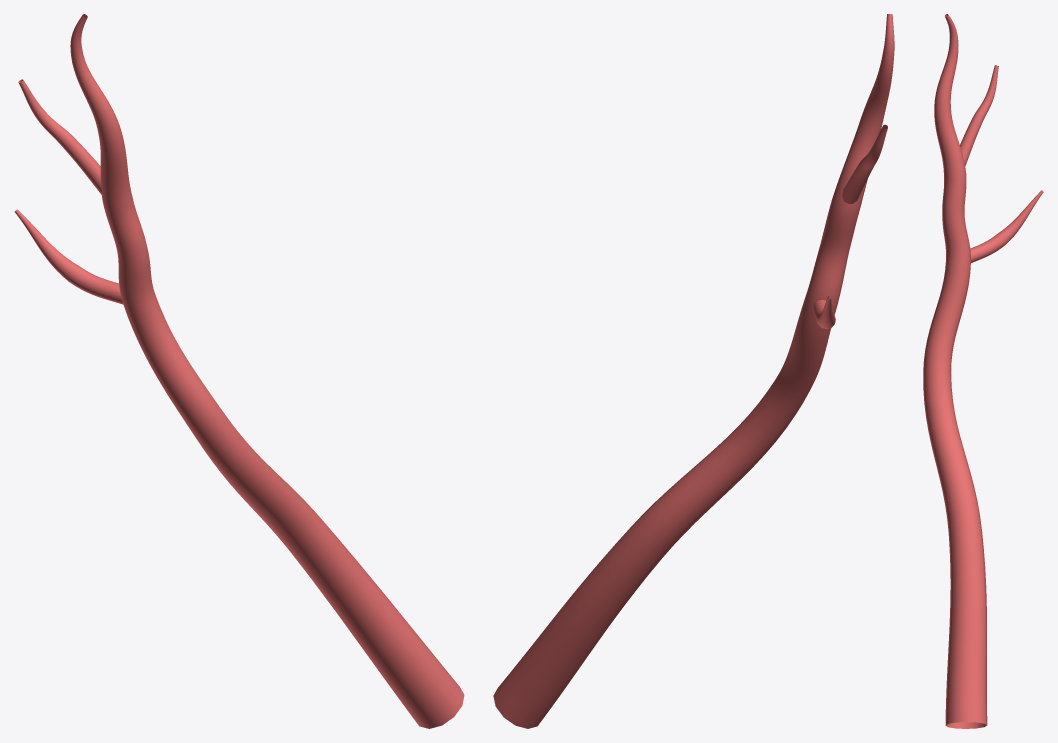
The model's file is Posterior_deep_temporal_artery.r_BezierCurve.085.glb.
The picture shows the model from 3 angles, left to right: view 1: azimuth 30°, elevation 25°; view 2: azimuth 150°, elevation 25°; view 3: azimuth 270°, elevation 25°; orthographic projection. The views are drawn at different scales.
Visible parts, largest first — view 1: Posterior_deep_temporal_artery.r_BezierCurve.085; view 2: Posterior_deep_temporal_artery.r_BezierCurve.085; view 3: Posterior_deep_temporal_artery.r_BezierCurve.085.
Part boxes in pixels (x1,y1,x2,y2): Posterior_deep_temporal_artery.r_BezierCurve.085: [14, 14, 464, 728]; Posterior_deep_temporal_artery.r_BezierCurve.085: [493, 14, 894, 728]; Posterior_deep_temporal_artery.r_BezierCurve.085: [923, 14, 1043, 728].
Bounding box in the file's own units: 0.0255 × 0.0467 × 0.00864.
